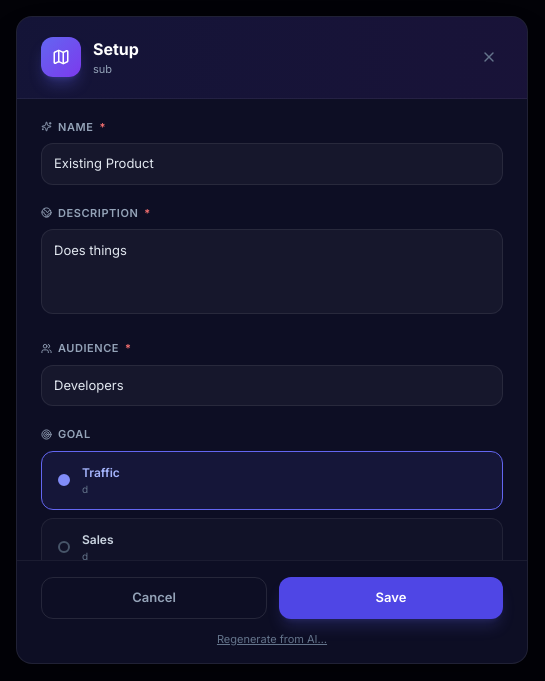
it: ProductSetupModal - Cloud Strategy editing (ADV-004-FIX-3 requirement A) › "Regenerate from AI…" requires an explicit confirm before touching the graph
Click the button "Regenerate from AI…" at (272, 639), box [217,630,327,647]
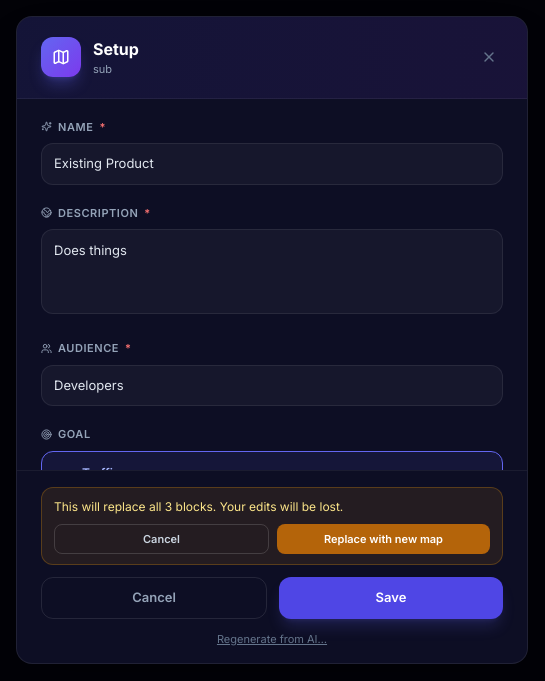
Expected: the text "This will replace all 3 blocks. Your edits will be lost." is shown, [54,498,343,514]
Click the 1st button "Cancel" at (162, 539), box [54,524,269,554]
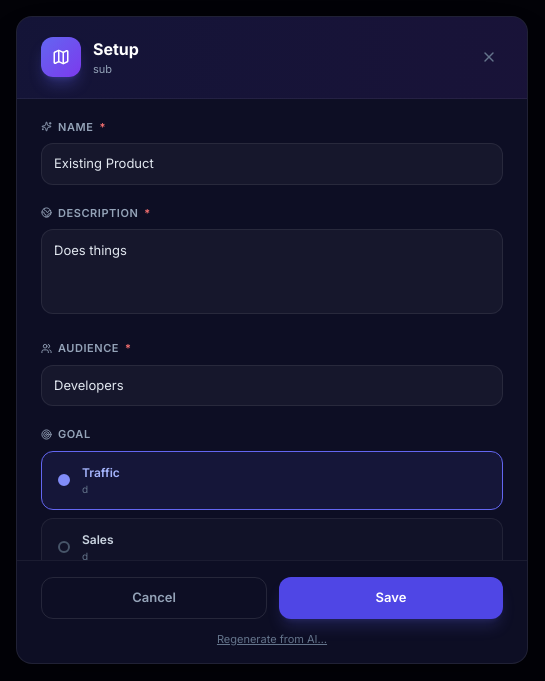
Expected: the text "replace all 3 blocks" is gone
